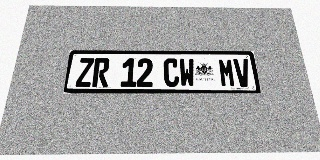1: (120, 58, 137, 87)
2: (137, 58, 153, 87)
C: (163, 58, 179, 87)
M: (218, 59, 236, 87)
R: (92, 58, 110, 87)
V: (233, 59, 252, 87)
W: (179, 58, 195, 87)
Z: (75, 58, 94, 87)
